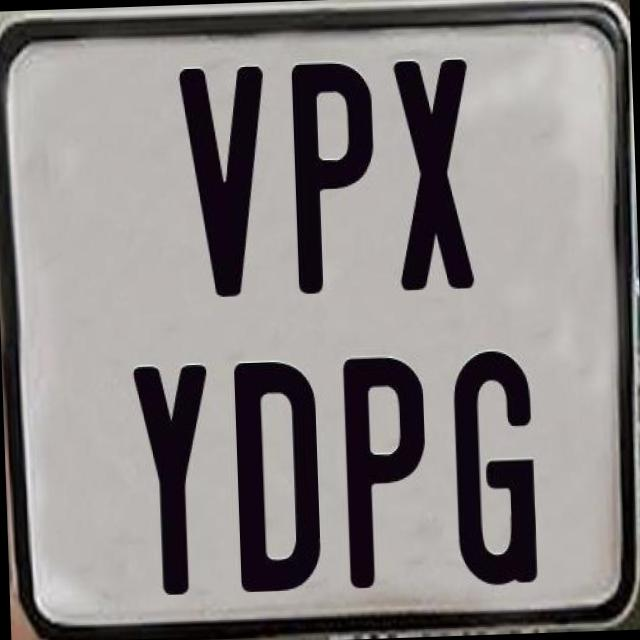D: (233, 360, 327, 596)
G: (451, 348, 539, 592)
P: (290, 56, 384, 296), (340, 352, 430, 586)
V: (178, 61, 276, 296)
X: (391, 56, 474, 292)
Y: (130, 358, 218, 598)
